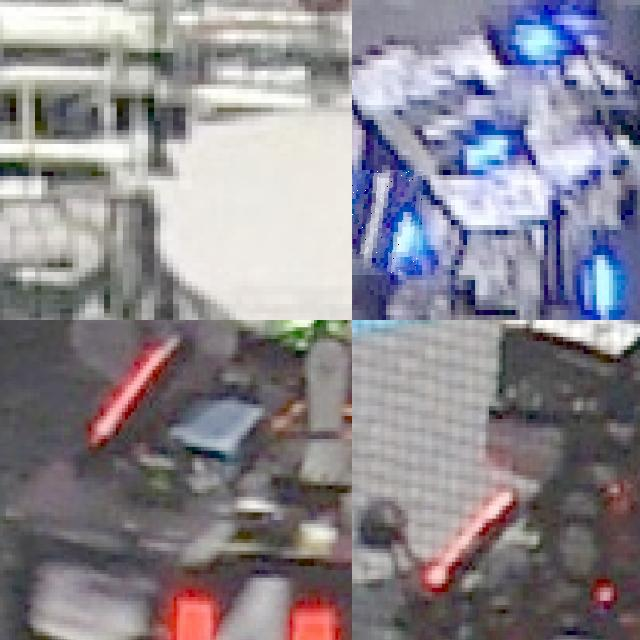B1: (352, 170, 422, 275), (588, 225, 640, 320)
R4: (170, 573, 332, 640)
